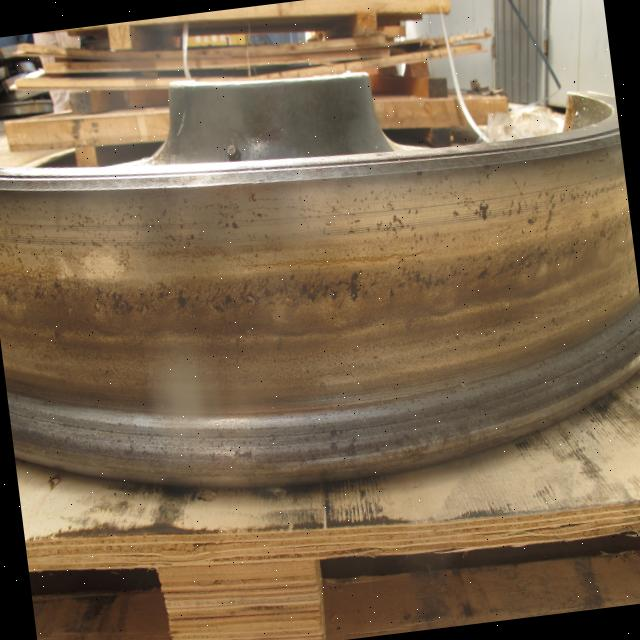Contact_Fatigue_Cracks: (159, 268, 364, 317), (398, 252, 552, 291), (88, 280, 134, 317), (31, 268, 64, 308)
